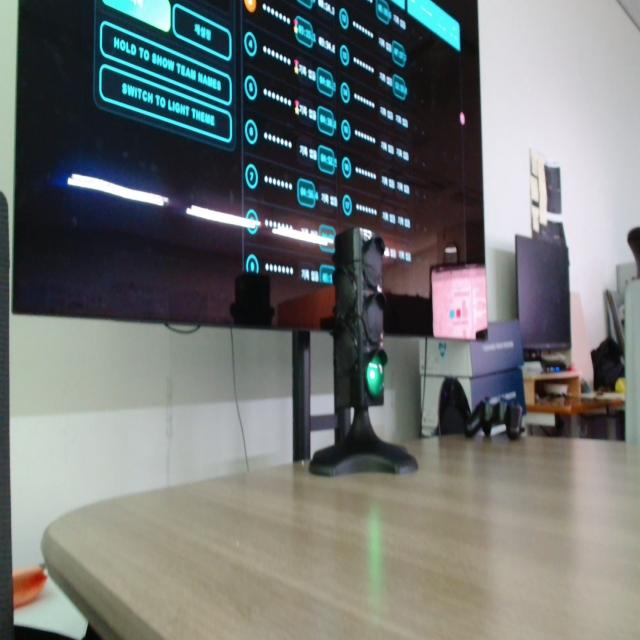green_light: (367, 355, 383, 398)
